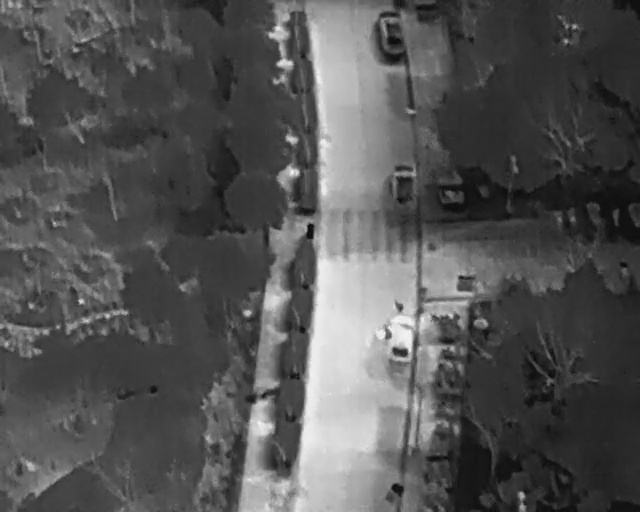Car: (373, 8, 409, 68), (387, 313, 417, 363), (391, 163, 418, 216)
Person: (393, 297, 407, 313)
